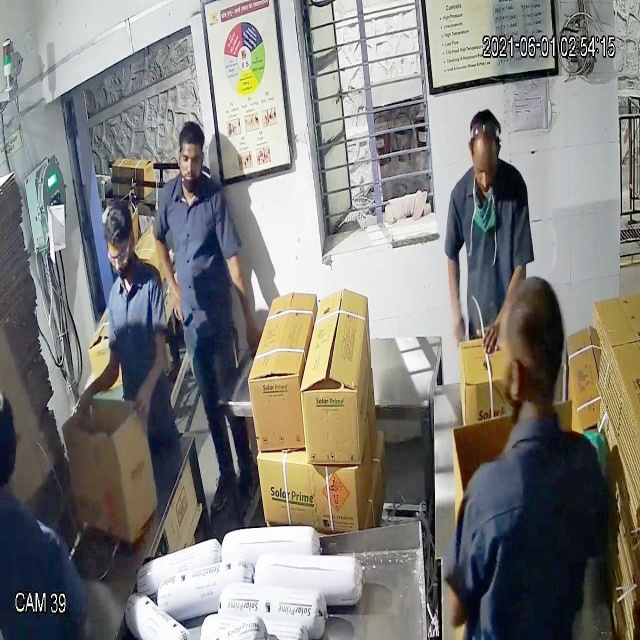Gafas: (105, 238, 133, 274)
